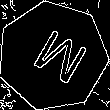M_SW: (20, 23, 86, 89)
